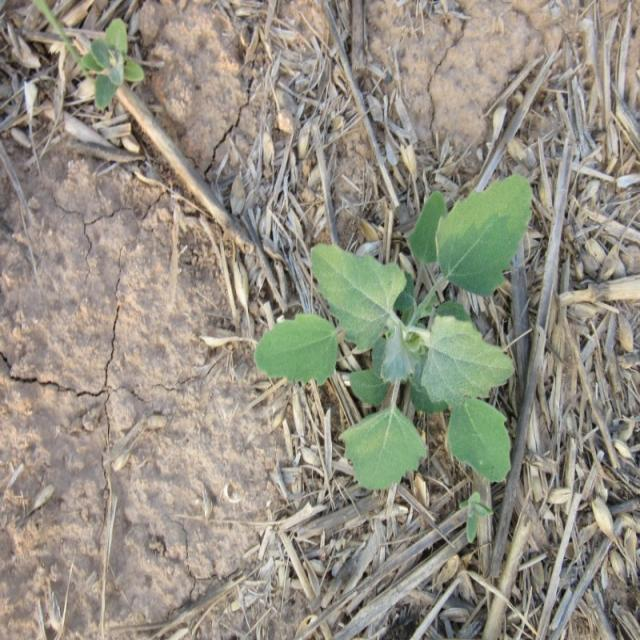ca: (260, 178, 532, 484)
